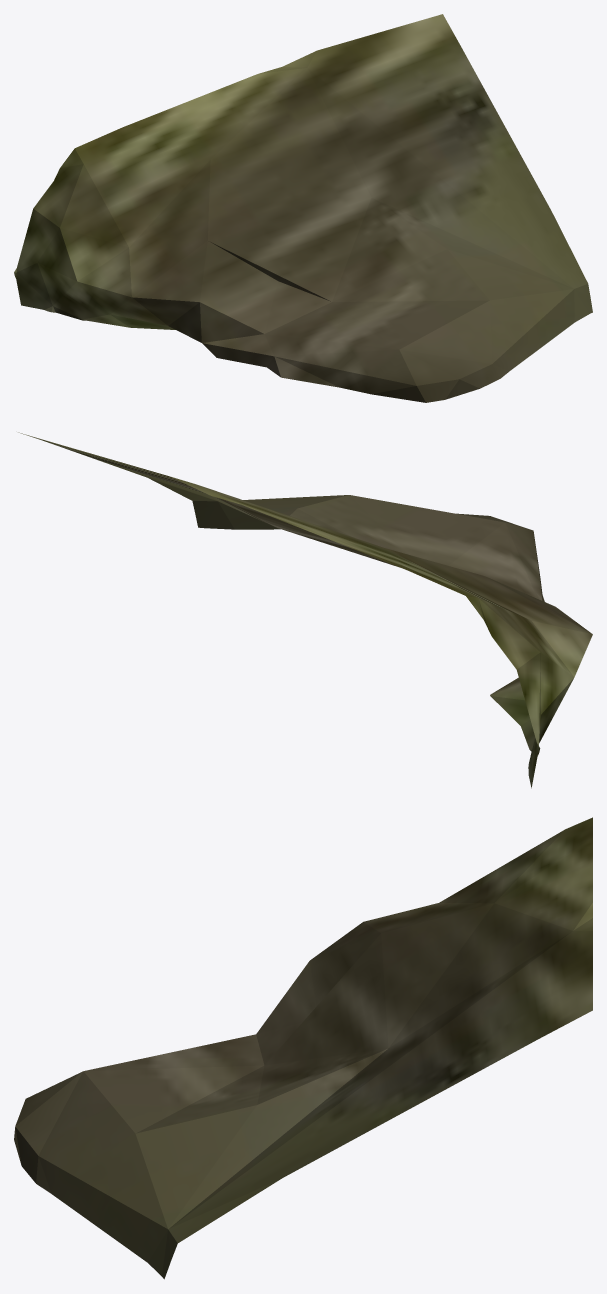
3 renders of one model, top to bottom at view 1: azimuth 30°, elevation 25°; view 2: azimuth 150°, elevation 25°; view 3: azimuth 270°, elevation 25°, orthographic. The views are drawn at different scales.
Size of the model in its own units: 0.8984 by 0.3773 by 0.7356.
1 material, 1 textured.
